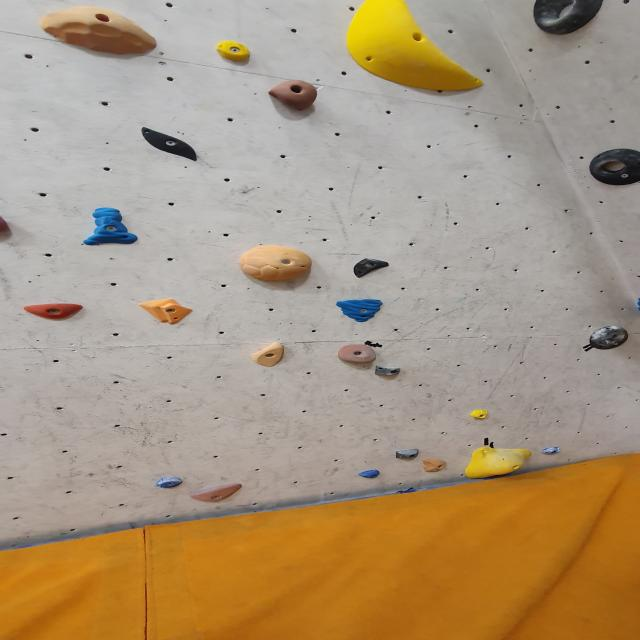Crimp: (336, 301, 385, 323), (189, 485, 245, 504), (21, 305, 86, 321), (156, 478, 185, 490), (358, 469, 382, 478), (357, 472, 381, 481), (540, 447, 560, 456)
Jug: (267, 82, 321, 115), (337, 345, 378, 366)
Pinch: (81, 206, 140, 246), (251, 343, 290, 368), (376, 363, 404, 378), (396, 449, 422, 461)
Pocket: (531, 0, 609, 36), (588, 144, 640, 187), (581, 324, 632, 350)
Sloper: (347, 2, 489, 99), (35, 4, 161, 56), (240, 247, 317, 284), (464, 448, 535, 480), (138, 128, 203, 162), (138, 300, 196, 326), (216, 40, 254, 64), (352, 259, 392, 278), (462, 405, 498, 424), (421, 458, 447, 474)
